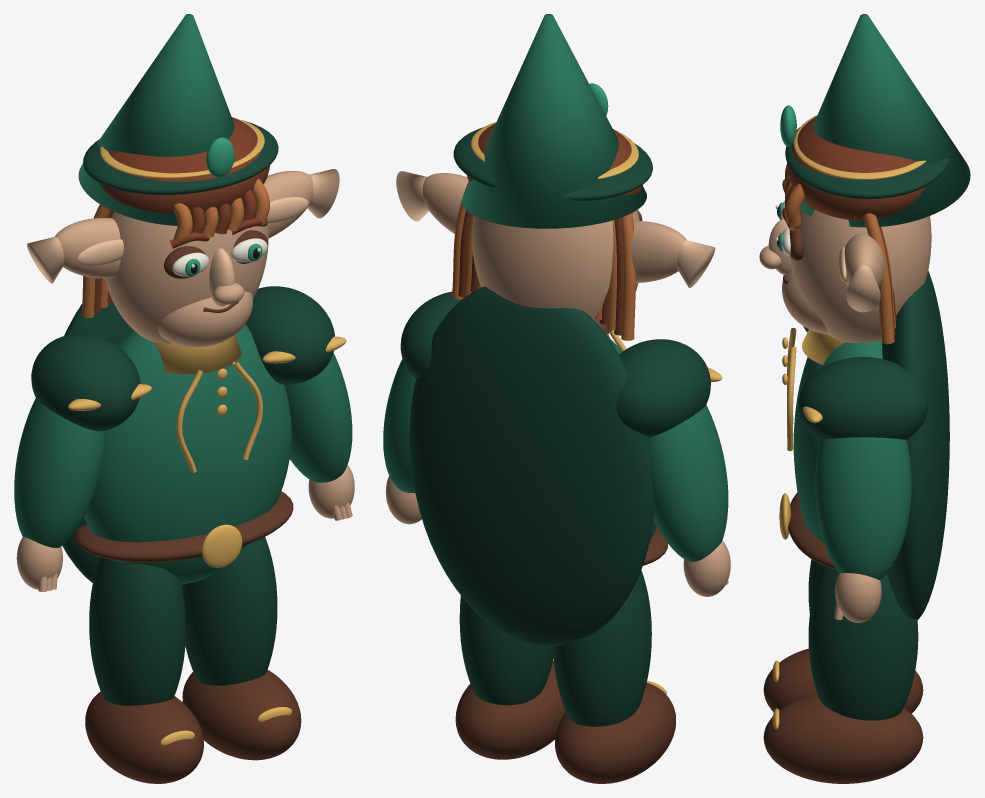
The model's file is revengine_elf.glb.
The picture shows the model from 3 angles, left to right: view 1: azimuth 30°, elevation 25°; view 2: azimuth 150°, elevation 25°; view 3: azimuth 270°, elevation 25°; orthographic projection. The views are drawn at different scales.
Visible parts, largest first — view 1: Tailored tunic, Trousers, Tall elven cap, Trousers.001, Sleeve, Face, Leather boot, Shoulder pauldron, Leather boot.001, Sleeve.001, Shoulder pauldron.001, Hair crown (+20 smaller); view 2: Draped cloak, Tall elven cap, Face, Sleeve, Trousers, Leather boot, Shoulder pauldron, Trousers.001, Leather boot.001, Sleeve.001, Hat brim, Pointed ear (+12 smaller); view 3: Tall elven cap, Draped cloak, Sleeve.001, Trousers.001, Leather boot.001, Face, Shoulder pauldron.001, Hair crown, Tailored tunic, Hat brim, Leather boot, Hand.001 (+13 smaller).
Boxes of the visible parts, bbox=[...] form: Tailored tunic: bbox=[84, 324, 291, 584]; Trousers: bbox=[89, 557, 185, 705]; Tall elven cap: bbox=[78, 14, 234, 225]; Trousers.001: bbox=[181, 537, 277, 685]; Sleeve: bbox=[14, 398, 106, 547]; Face: bbox=[105, 212, 268, 343]; Leather boot: bbox=[85, 691, 203, 783]; Shoulder pauldron: bbox=[31, 333, 140, 431]; Leather boot.001: bbox=[182, 669, 301, 760]; Sleeve.001: bbox=[284, 353, 352, 482]; Shoulder pauldron.001: bbox=[245, 286, 334, 384]; Hair crown: bbox=[99, 117, 269, 213]; Draped cloak: bbox=[409, 286, 653, 646]; Tall elven cap: bbox=[461, 14, 646, 228]; Face: bbox=[472, 210, 639, 335]; Sleeve: bbox=[649, 405, 728, 561]; Trousers: bbox=[553, 570, 651, 726]; Leather boot: bbox=[555, 683, 675, 783]; Shoulder pauldron: bbox=[616, 339, 710, 437]; Trousers.001: bbox=[459, 595, 553, 705]; Leather boot.001: bbox=[455, 661, 565, 759]; Sleeve.001: bbox=[383, 359, 415, 492]; Hat brim: bbox=[453, 127, 652, 200]; Pointed ear: bbox=[631, 221, 686, 282]; Tall elven cap: bbox=[800, 14, 970, 227]; Draped cloak: bbox=[882, 271, 949, 619]; Sleeve.001: bbox=[815, 437, 911, 579]; Trousers.001: bbox=[808, 565, 918, 720]; Leather boot.001: bbox=[763, 694, 923, 783]; Face: bbox=[790, 209, 931, 342]; Shoulder pauldron.001: bbox=[798, 357, 928, 439]; Hair crown: bbox=[787, 116, 925, 220]; Tailored tunic: bbox=[793, 340, 882, 542]; Hat brim: bbox=[785, 127, 949, 199]; Leather boot: bbox=[763, 648, 923, 713]; Hand.001: bbox=[835, 573, 881, 622].
Size of the model in its own units: 2.32 by 4.92 by 1.27.
